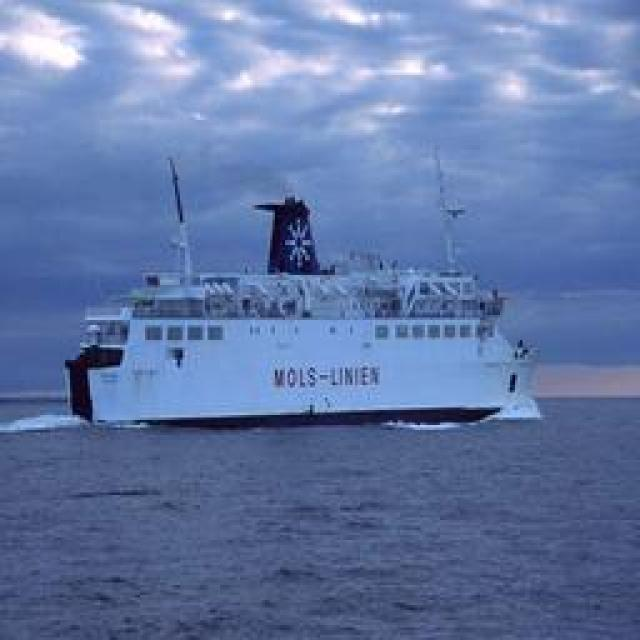CIV_Ship: (65, 154, 535, 418)
